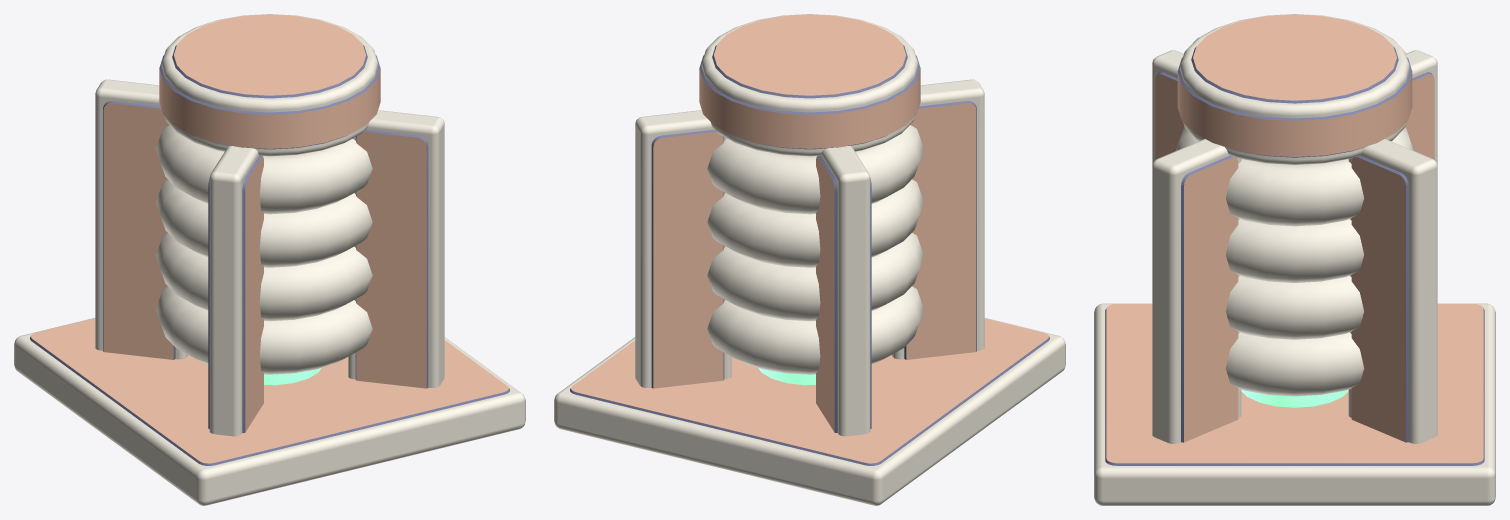
File: R4X_EnergyRegenerator.fbx
3 renders of one model, left to right at view 1: azimuth 30°, elevation 25°; view 2: azimuth 150°, elevation 25°; view 3: azimuth 270°, elevation 25°, orthographic. The views are drawn at different scales.
Visible parts, largest first — view 1: R4X_EnergyRegenerator_Body; view 2: R4X_EnergyRegenerator_Body; view 3: R4X_EnergyRegenerator_Body.
Boxes of the visible parts, bbox=[...] form: R4X_EnergyRegenerator_Body: bbox=[14, 14, 525, 505]; R4X_EnergyRegenerator_Body: bbox=[554, 14, 1065, 505]; R4X_EnergyRegenerator_Body: bbox=[1094, 14, 1495, 505].
Bounding box in the file's own units: 0.514 × 0.52 × 0.514.
